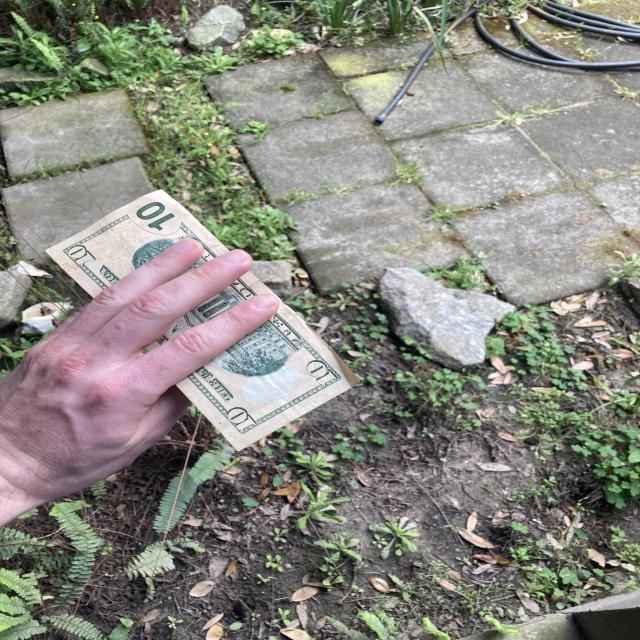ten: (45, 185, 364, 451)
